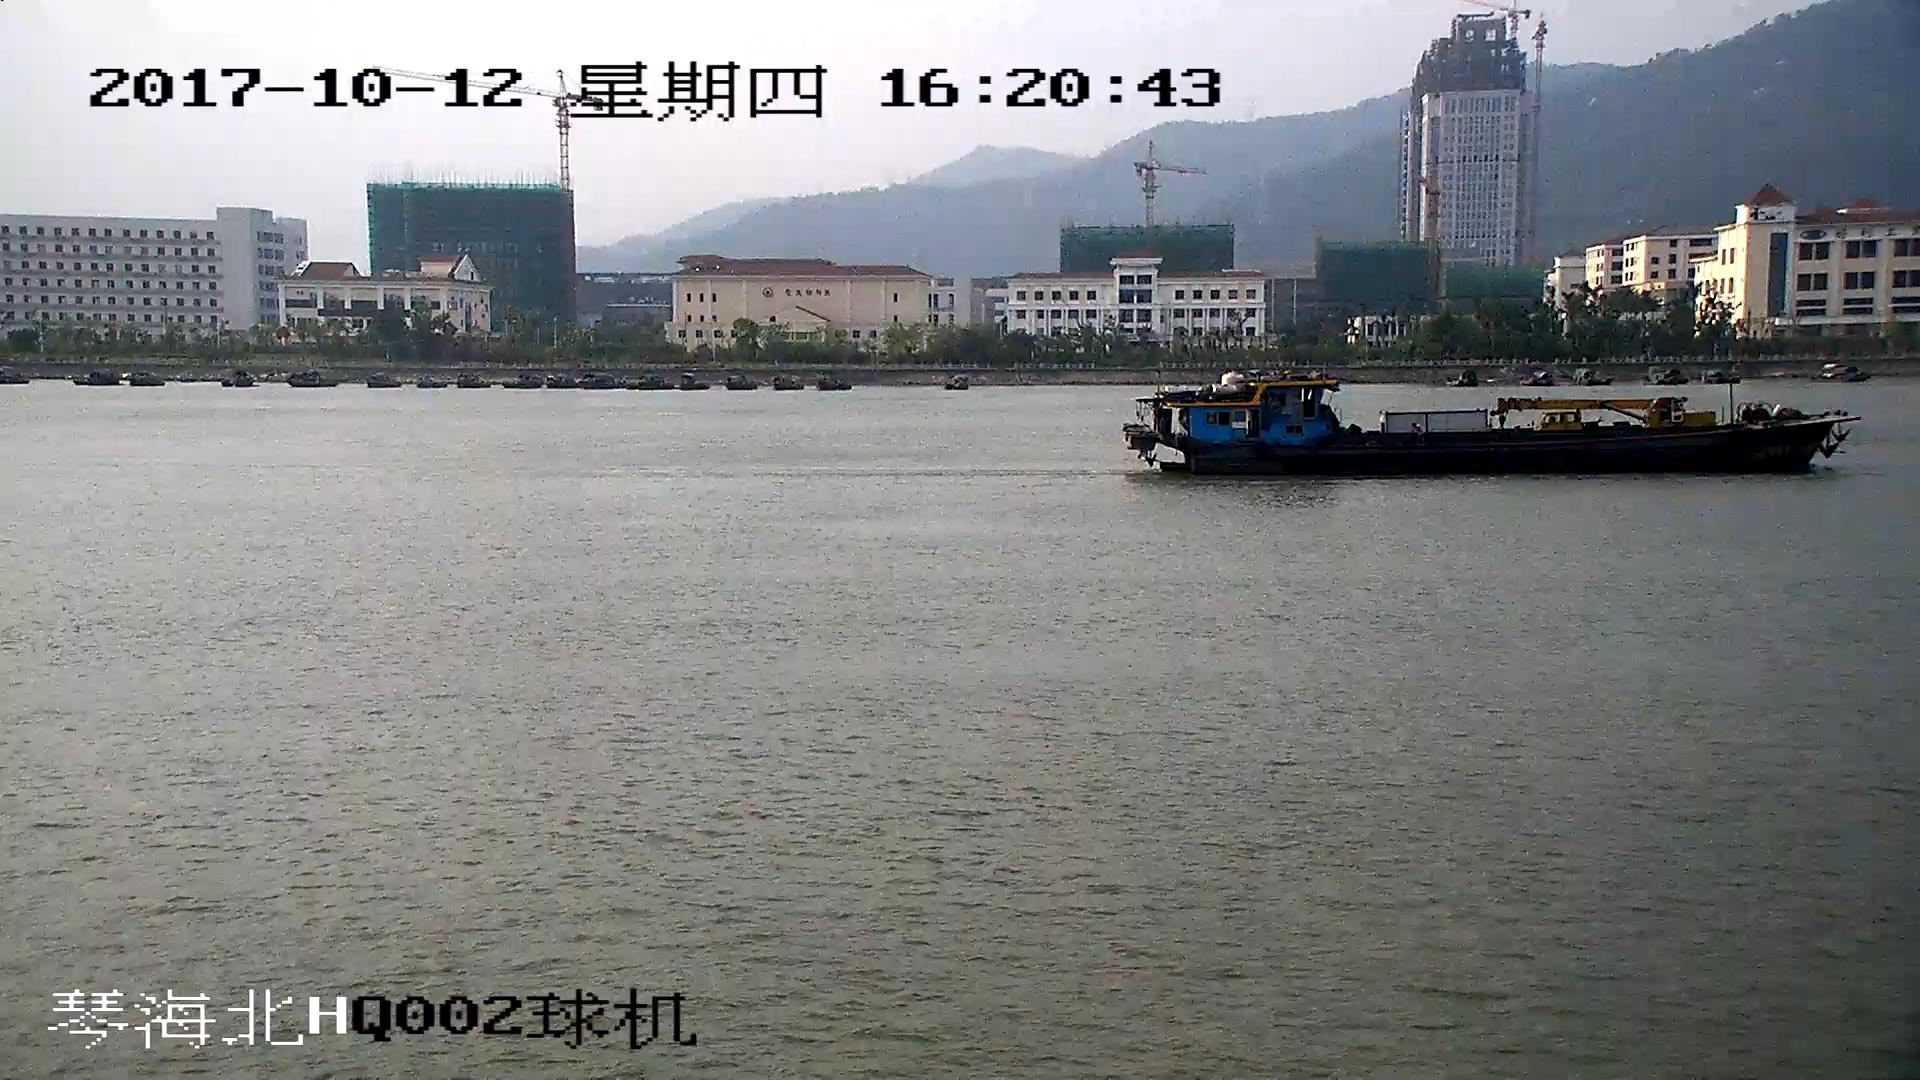fishing boat: (1133, 370, 1844, 479)
